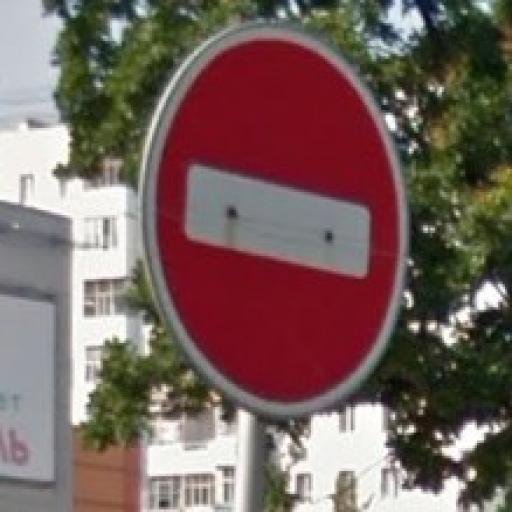traffic_sign: (139, 16, 410, 421)
